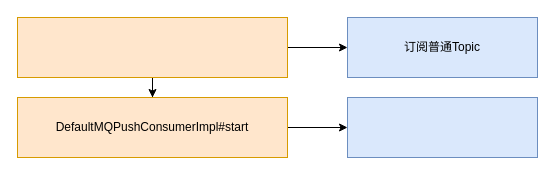
The diagram is 555 pixels wide and 175 high, and some of its shapes have lost their labels. Each missing label, with the box of its shape:
DefaultMQPushConsumerImpl#subscribe: (16, 16, 288, 78)
订阅重试Topic，格式为 %RETRY% + consumerGroup: (346, 96, 538, 158)
